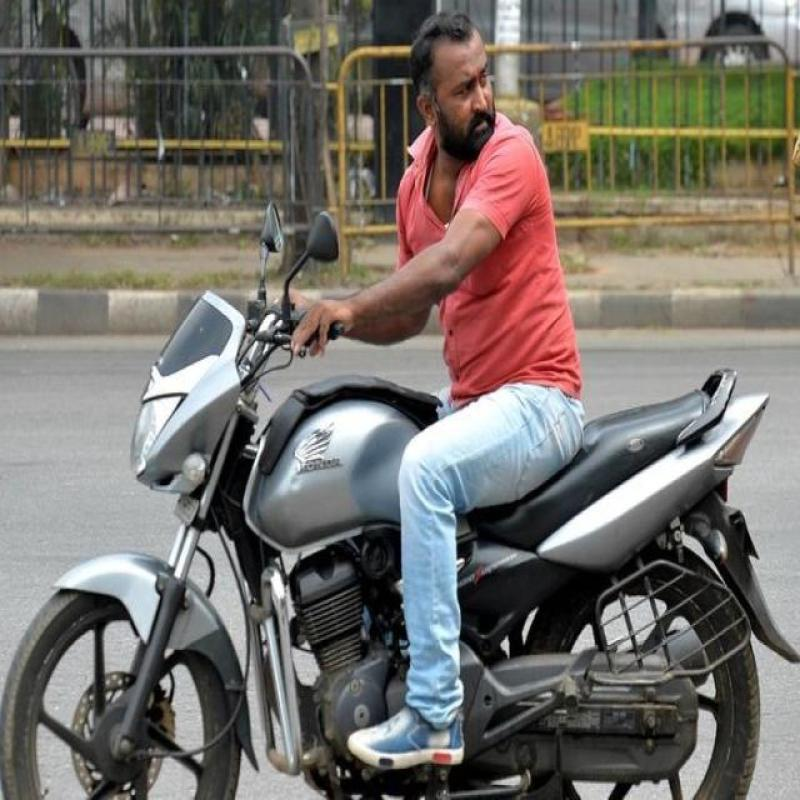nohelmet: (396, 5, 496, 158)
